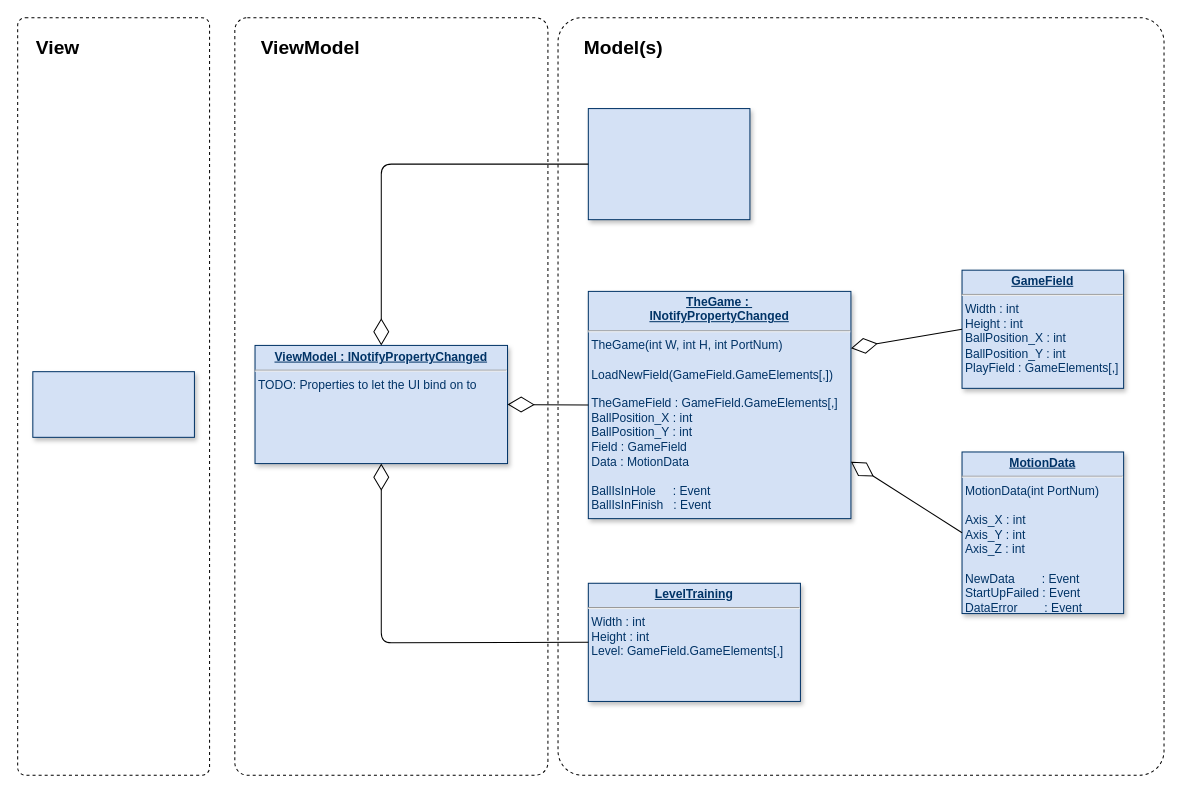
Image size: 1182x793. Some labels were removed from this diagram. The shapes that lost their labels are listed below. From the top down, each one's centre as x and y in pixels, then its label:
[669,165]: ActiveCOMPorts : INotifyPropertyChanged Ports
[114,405]: UI
